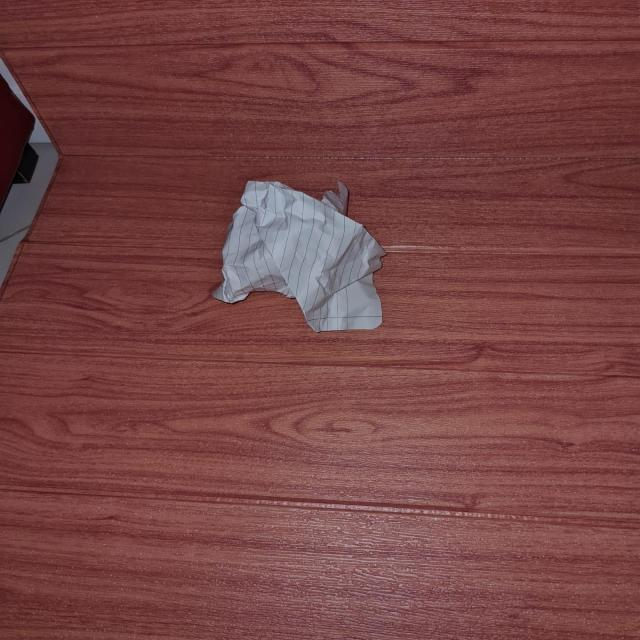trash: (208, 175, 382, 331)
